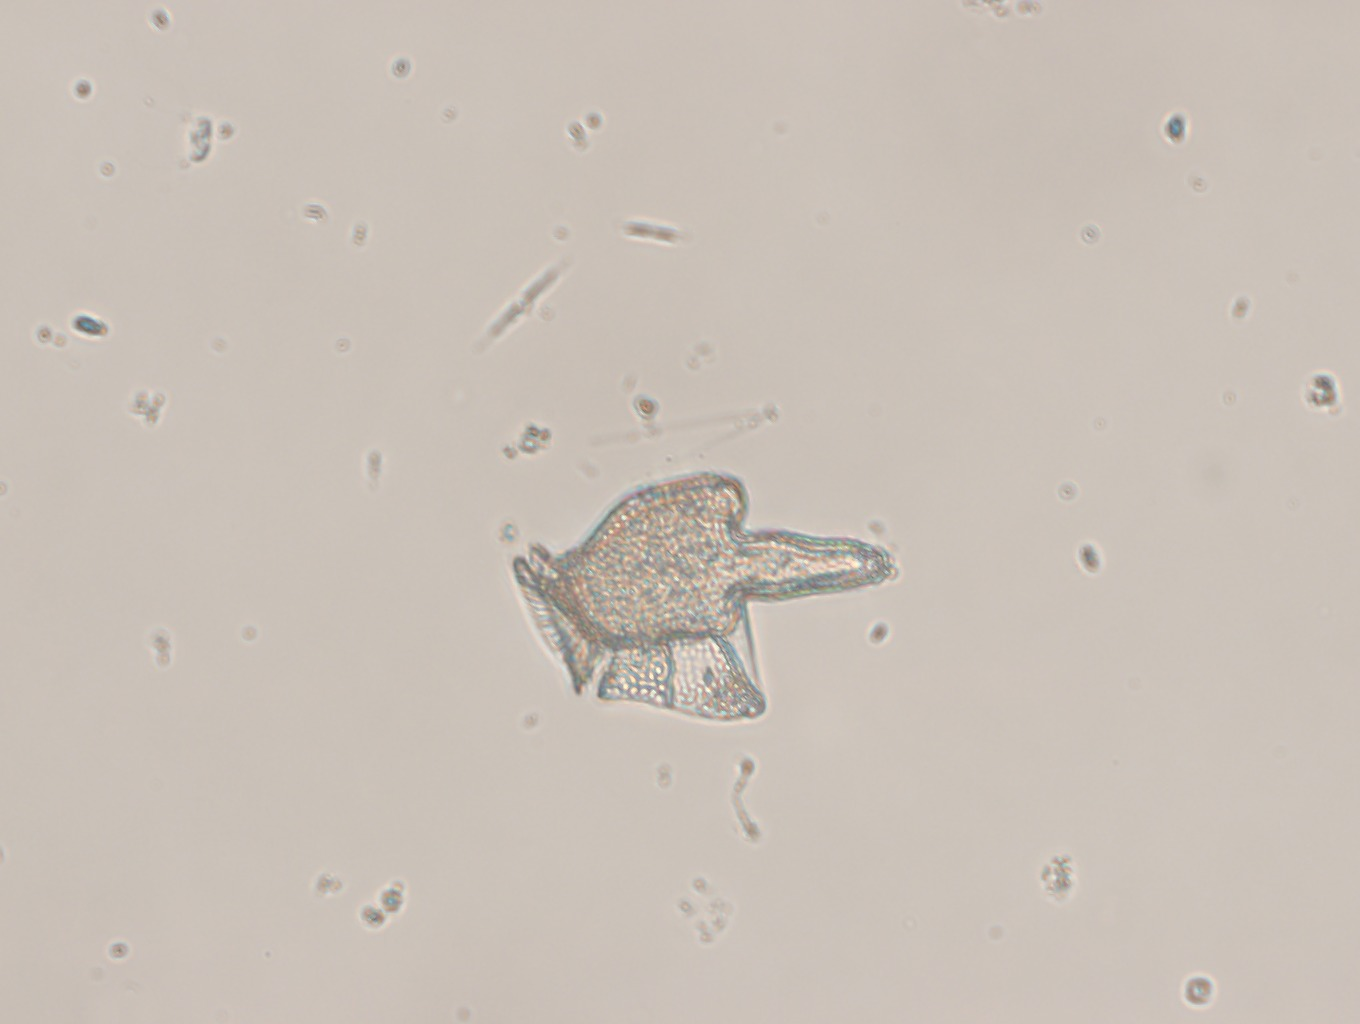dinophysis caudata: (509, 468, 894, 723)
